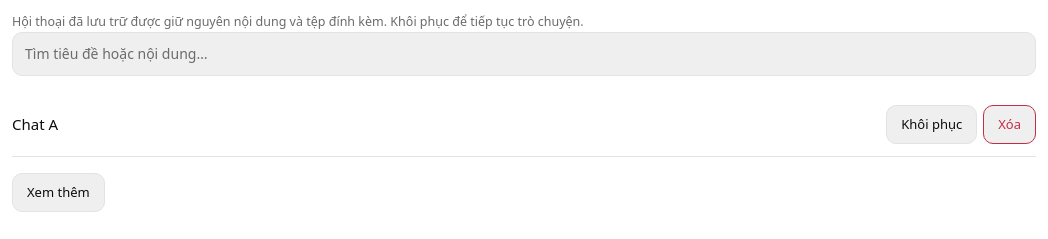
Scenario: chỉ tải khi mở mục, phân trang và tìm trong danh sách lưu trữ
The width and height of the screenshot is (1048, 239).
Expected: the button "Chat A" is shown, [12,104,876,144]
Click the button "Xem thêm" at (58, 193), box [12,173,105,212]
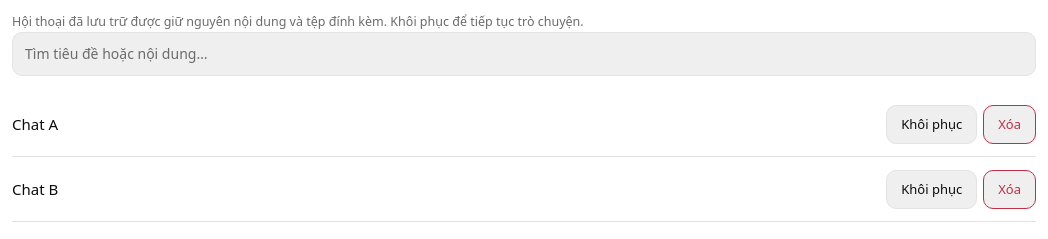
Expected: the button "Chat B" is shown, [12,169,876,209]
Type "Tài liệu" into the search field at (524, 54), box [12,32,1036,76]
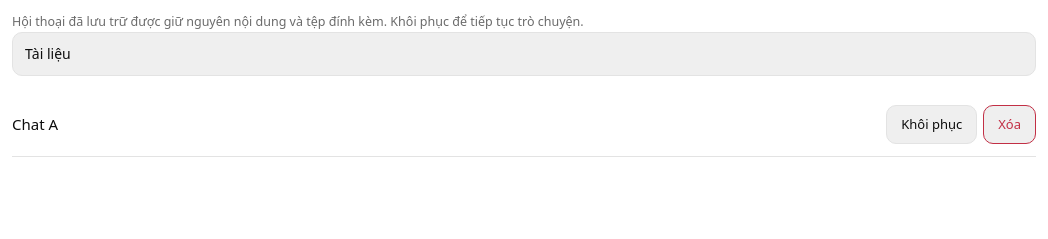
Expected: the button "Chat A" is shown, [12,104,876,144]
Expected: the button "Chat B" is gone
